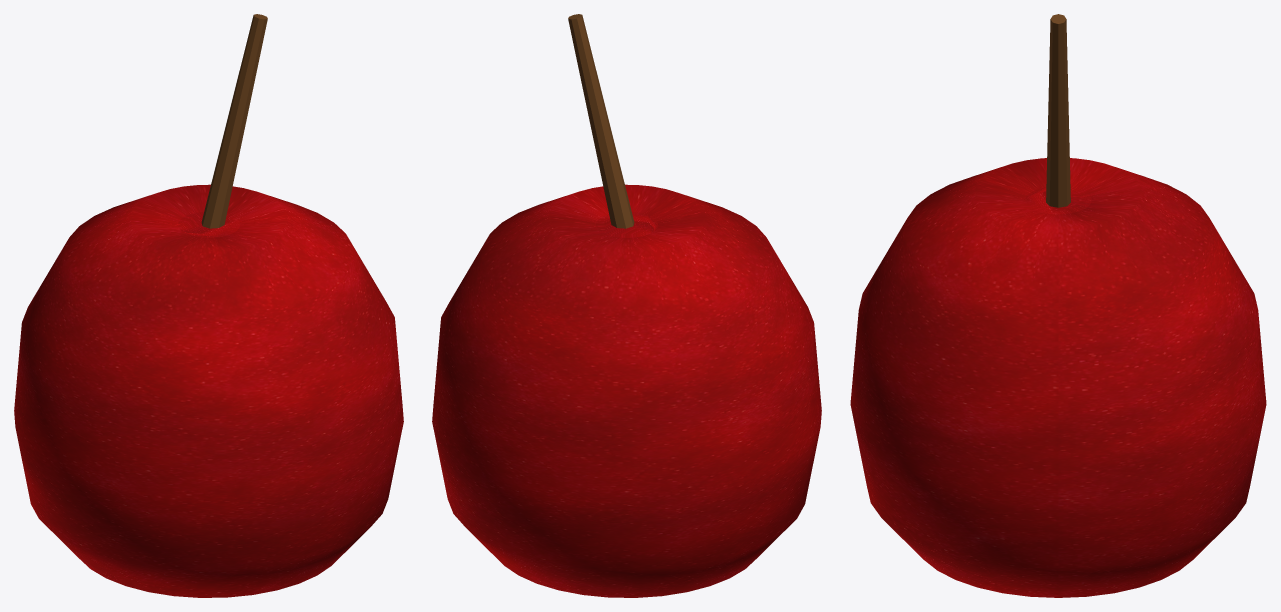
Rendered from cherry-dUqHWkOT.glb.
3 views of the same model, side by side, from view 1: azimuth 30°, elevation 25°; view 2: azimuth 150°, elevation 25°; view 3: azimuth 270°, elevation 25° (orthographic). The views are drawn at different scales.
Parts seen in each view (by area): view 1: FLC_cherry; view 2: FLC_cherry; view 3: FLC_cherry.
Boxes of the visible parts, <box> form: FLC_cherry: <box>14,14,403,597</box>; FLC_cherry: <box>432,14,821,597</box>; FLC_cherry: <box>850,14,1266,597</box>.
Bounding box in the file's own units: 0.26 × 0.3896 × 0.26.
Materials: 2 (1 with a texture image).
